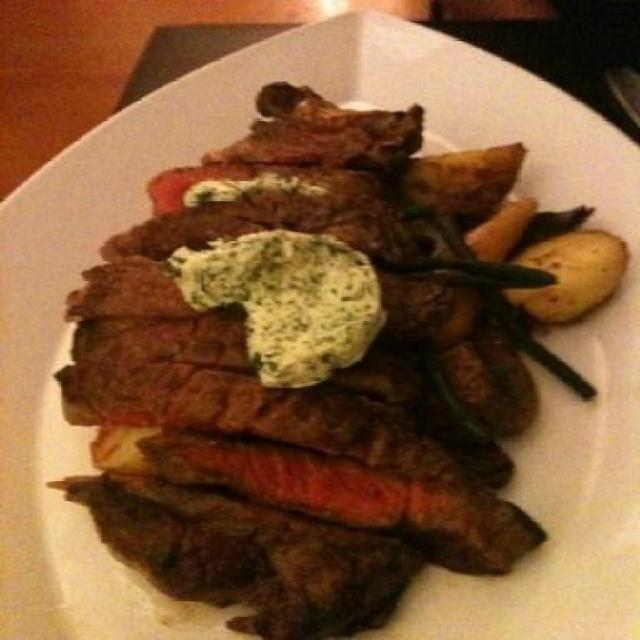Steak: (93, 96, 561, 639)
